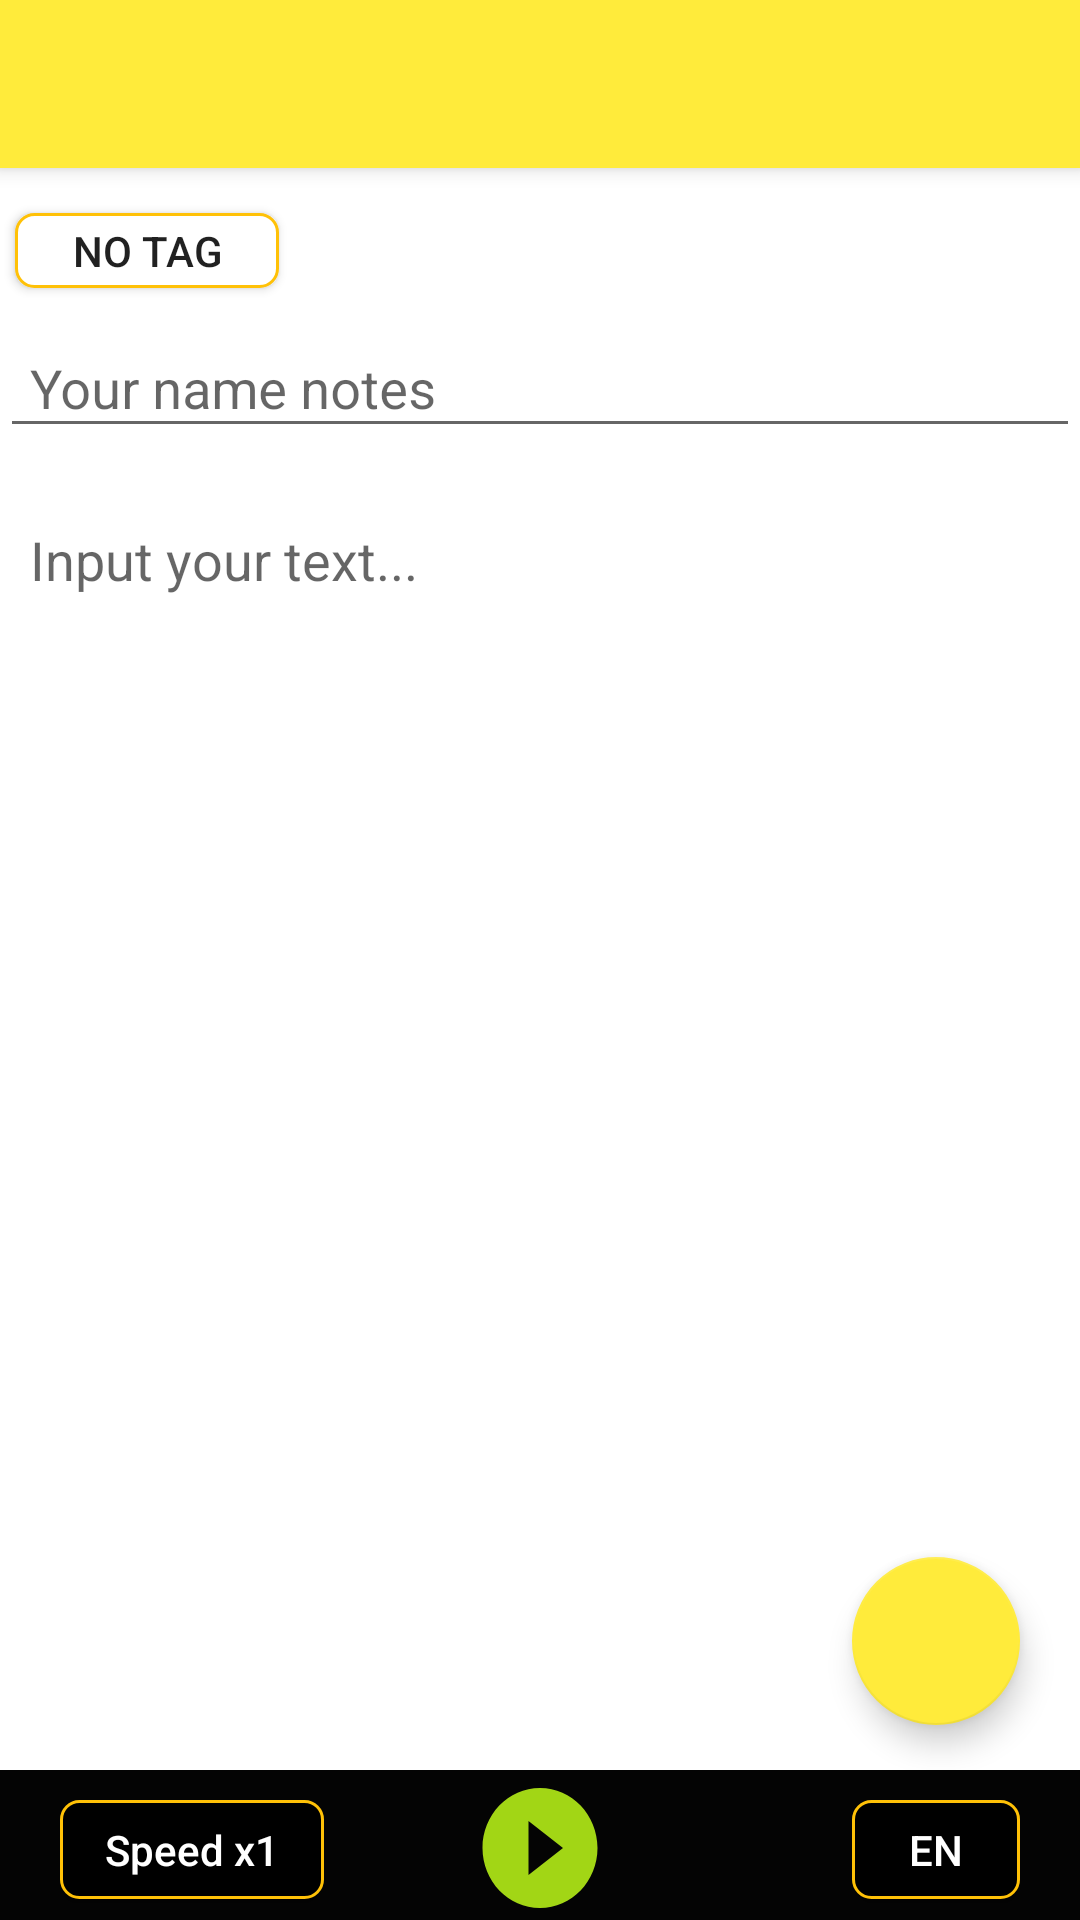

Icon bounding boxes for this 1080x1920 phone screenshot, format {"x1": x1, "y1": y1, "x2": x2, "y2": y2}:
play circle: {"x1": 482, "y1": 1788, "x2": 598, "y2": 1908}
